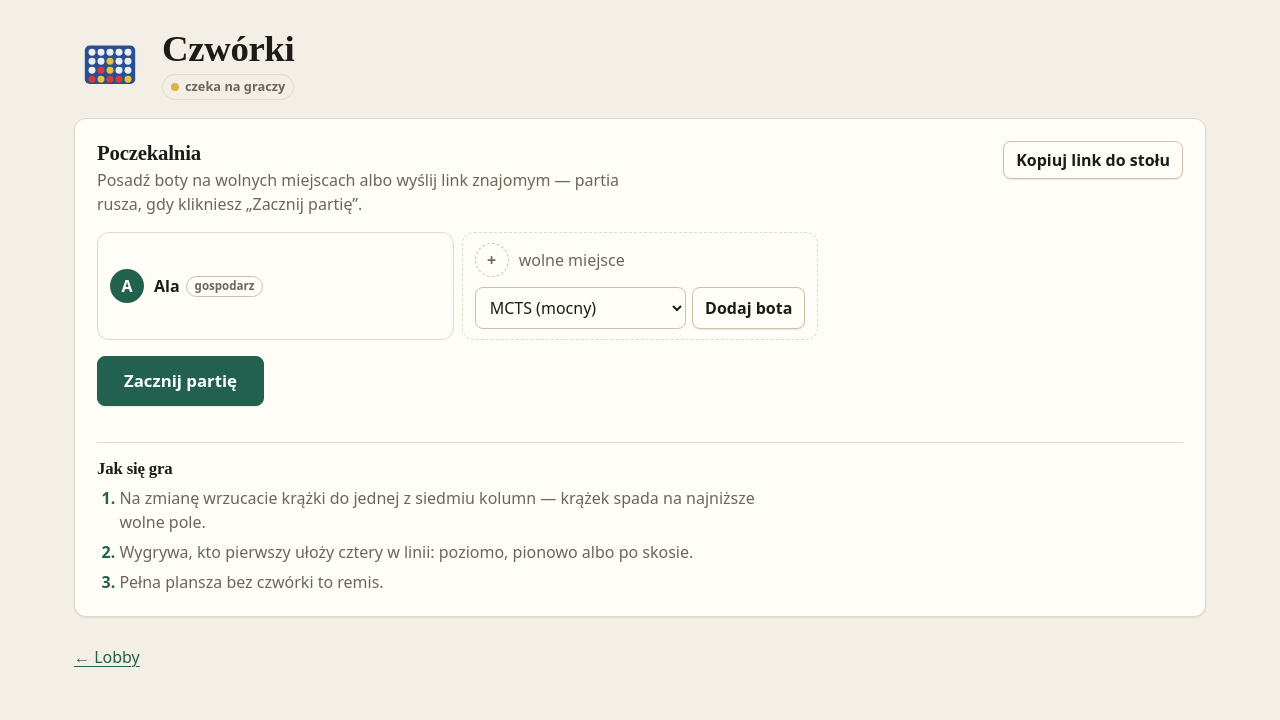
Test: moves and connection › clears an old error when the next action succeeds
This screenshot has width=1280, height=720.
What coordinates should you click on to do the following:
click the button "Zacznij partię"
I would click on:
 (180, 381)
Its box is top-left (97, 356), bottom-right (264, 406).
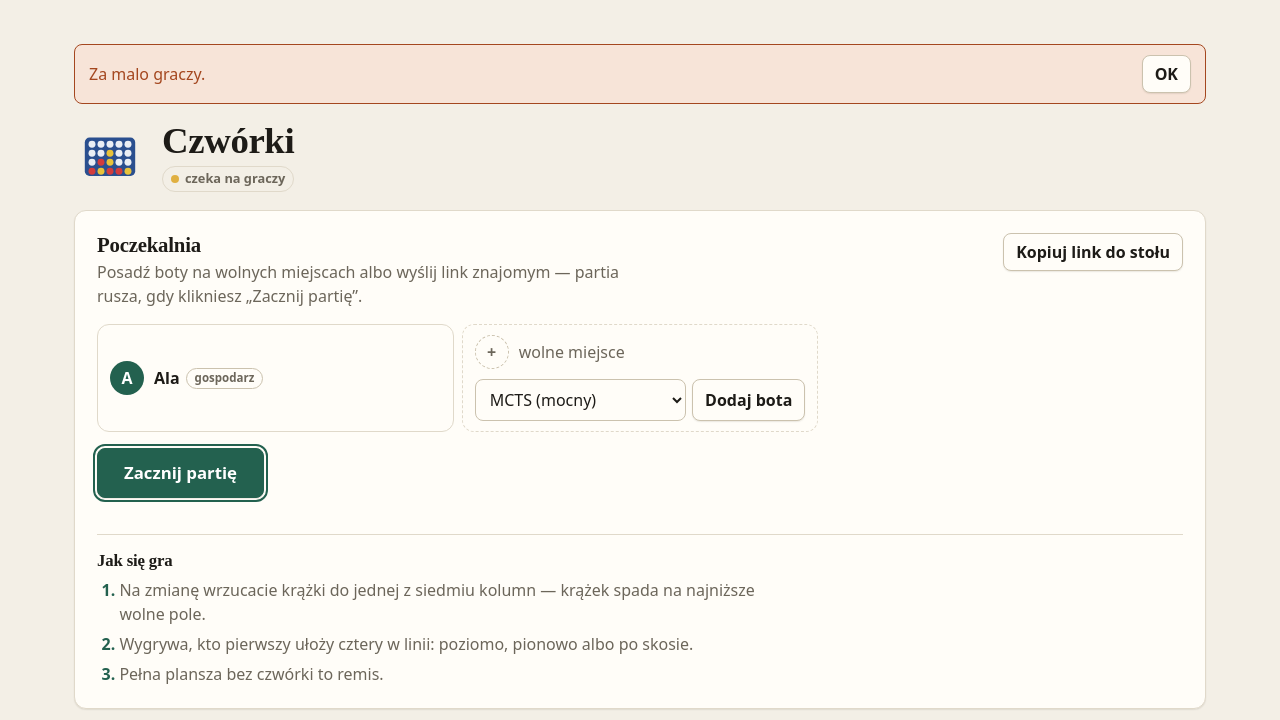
Expected: the message shows "Za malo graczy.", top-left (89, 63), bottom-right (205, 85)
What coordinates should you click on to do the following:
click the button "Zacznij partię"
I would click on:
 (180, 473)
Its box is top-left (97, 448), bottom-right (264, 498).
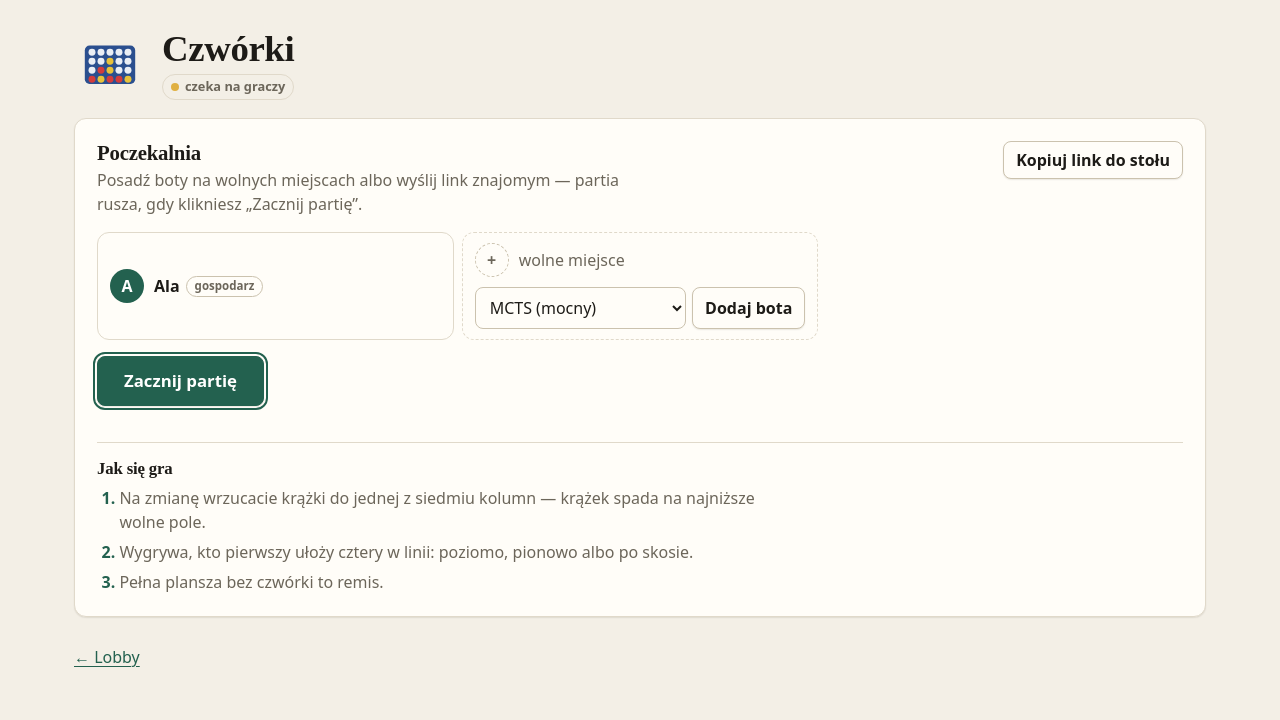
Expected: the message "Za malo graczy. OK" is gone
